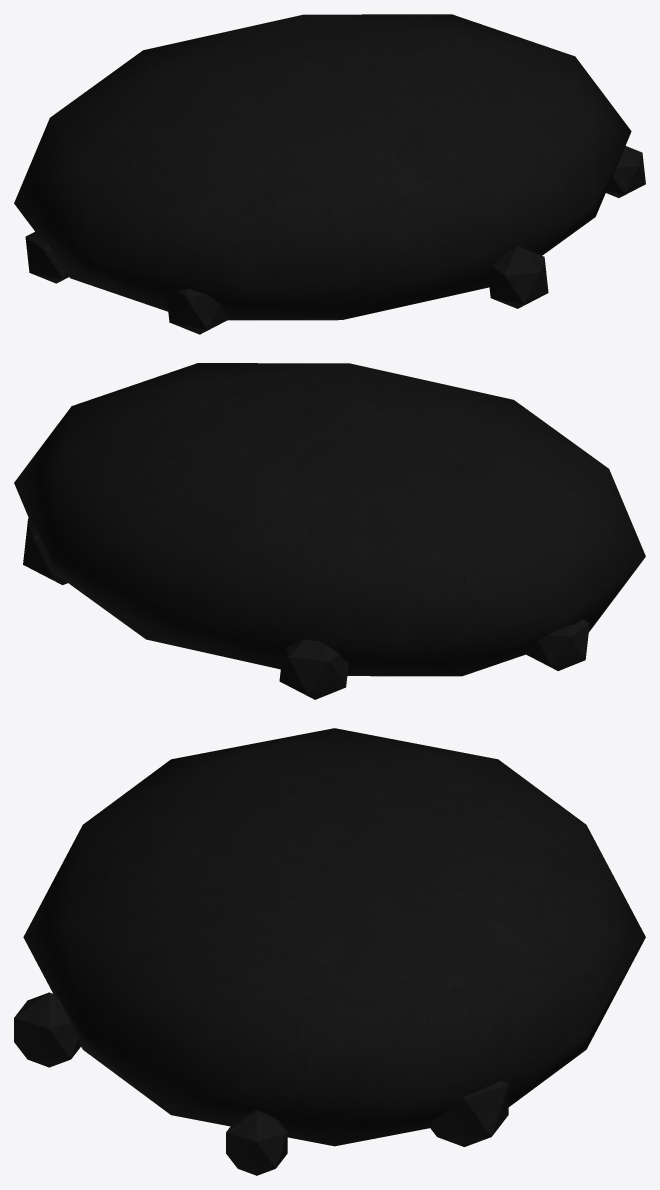
The model's file is prop_ashmoor_coal.glb.
3 views of the same model, one above another, from view 1: azimuth 30°, elevation 25°; view 2: azimuth 150°, elevation 25°; view 3: azimuth 270°, elevation 25° (orthographic). The views are drawn at different scales.
Visible parts, largest first — view 1: prop_ashmoor_coalheap; view 2: prop_ashmoor_coalheap; view 3: prop_ashmoor_coalheap.
Boxes of the visible parts, x1,y1,x2,y2 form: prop_ashmoor_coalheap: [14, 14, 645, 334]; prop_ashmoor_coalheap: [14, 363, 645, 699]; prop_ashmoor_coalheap: [14, 728, 645, 1175].
Size of the model in its own units: 1.48 by 0.56 by 1.22.
1 material, 1 textured.
